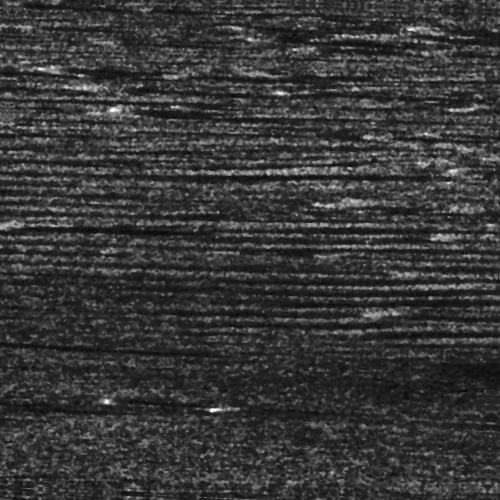object: (323, 297, 480, 310), (164, 400, 205, 413), (0, 229, 64, 236), (316, 194, 357, 199), (0, 414, 27, 419)
shadow: (185, 400, 344, 413), (402, 297, 500, 310), (27, 229, 169, 236), (0, 351, 174, 356), (12, 414, 164, 419), (336, 194, 412, 199)
